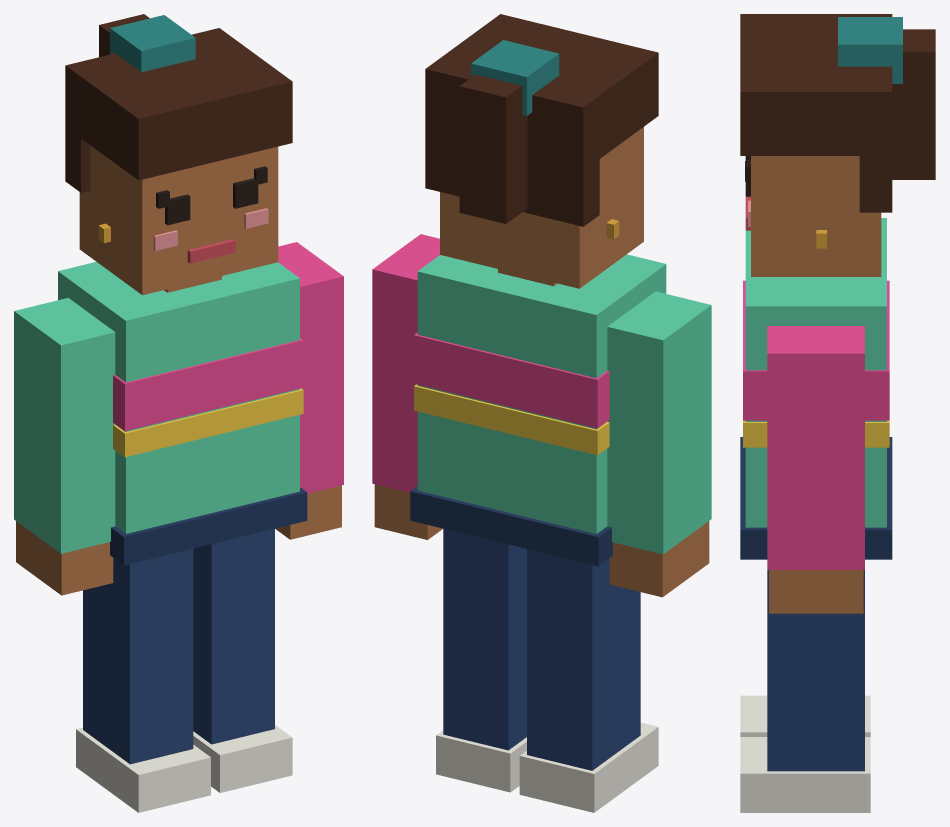
The model's file is middle_home_student_4.glb.
3 views of the same model, side by side, from view 1: azimuth 30°, elevation 25°; view 2: azimuth 150°, elevation 25°; view 3: azimuth 270°, elevation 25° (orthographic). The views are drawn at different scales.
Parts seen in each view (by area): view 1: Box9, Box7, Box24, Box5, Box14, Box1, Box3, Box10, Box6, Box12, Box11, Box2 (+8 smaller); view 2: Box9, Box7, Box5, Box24, Box1, Box14, Box3, Box10, Box27, Box25, Box12, Box6 (+5 smaller); view 3: Box3, Box24, Box1, Box14, Box9, Box2, Box27, Box4, Box26, Box10, Box25, Box12 (+2 smaller).
Boxes of the visible parts, x1,y1,x2,y2 form: Box9: (58,261,299,533); Box7: (14,298,115,553); Box24: (65,28,292,180); Box5: (83,548,193,764); Box14: (79,145,278,295); Box1: (193,528,274,744); Box3: (278,242,343,493); Box10: (113,338,303,431); Box6: (76,727,210,812); Box12: (110,487,307,565); Box11: (113,388,303,457); Box2: (193,725,292,792); Box9: (417,254,666,533); Box7: (607,291,711,554); Box5: (527,549,640,770); Box24: (425,14,658,170); Box1: (443,528,526,750); Box14: (440,127,643,288); Box3: (372,234,439,492); Box10: (414,332,609,428); Box27: (459,74,527,223); Box25: (425,101,599,226); Box12: (410,486,612,566); Box6: (519,722,658,812); Box3: (767,326,864,569); Box24: (740,14,892,155); Box1: (767,570,864,771); Box14: (751,156,881,276); Box9: (745,218,886,527); Box2: (740,737,870,812); Box27: (892,29,935,179); Box4: (769,570,863,613); Box26: (838,17,902,83); Box10: (743,280,889,420); Box25: (859,124,892,212); Box12: (740,437,892,559).
Size of the model in its own units: 0.6563 by 1.59 by 0.378.
